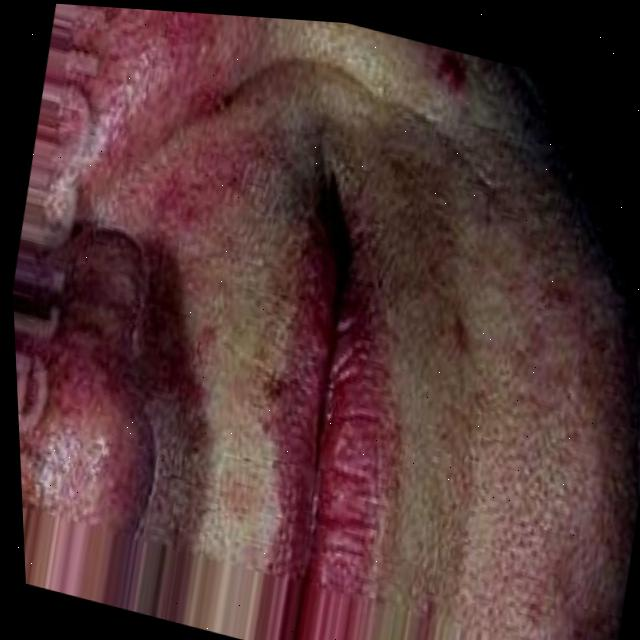Rosacea: (56, 4, 255, 190), (421, 42, 475, 85)
